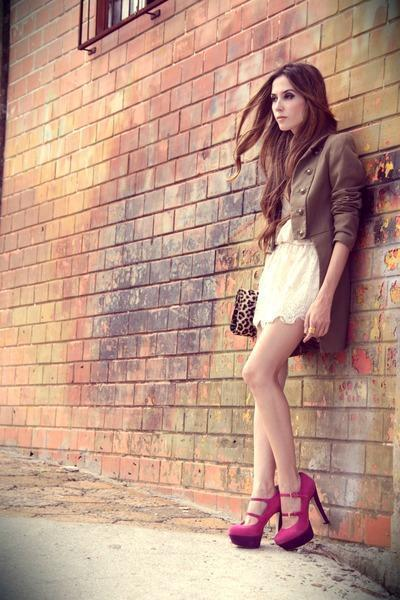bag: (230, 310, 256, 340)
dress: (253, 228, 323, 327)
jacket: (280, 136, 366, 364)
shoe: (229, 472, 330, 551)
